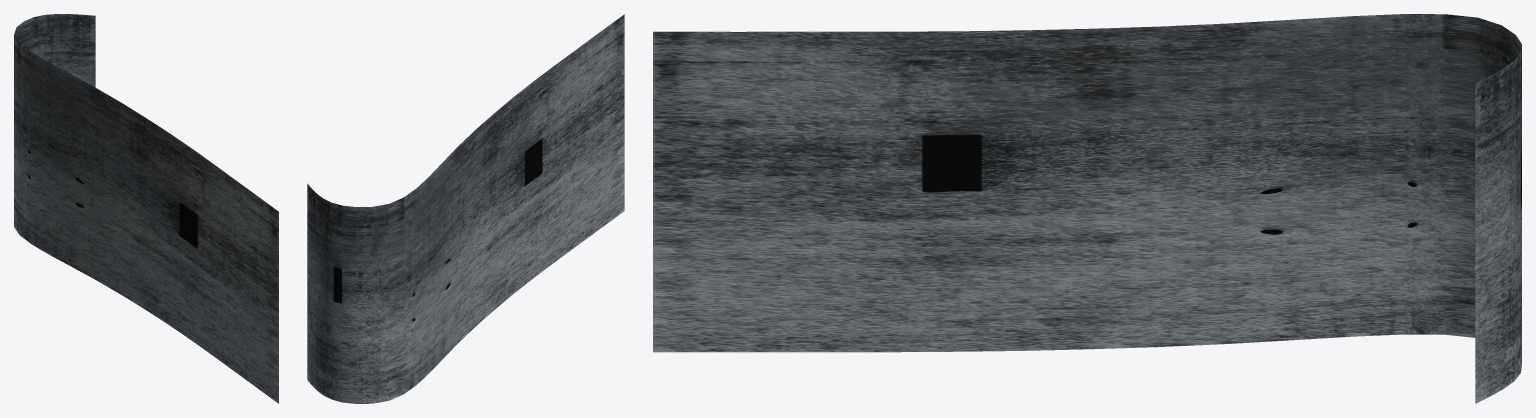
The model's file is store_18.obj.
3 views of the same model, side by side, from view 1: azimuth 30°, elevation 25°; view 2: azimuth 150°, elevation 25°; view 3: azimuth 270°, elevation 25° (orthographic). The views are drawn at different scales.
Size of the model in its own units: 103 by 221 by 542.
